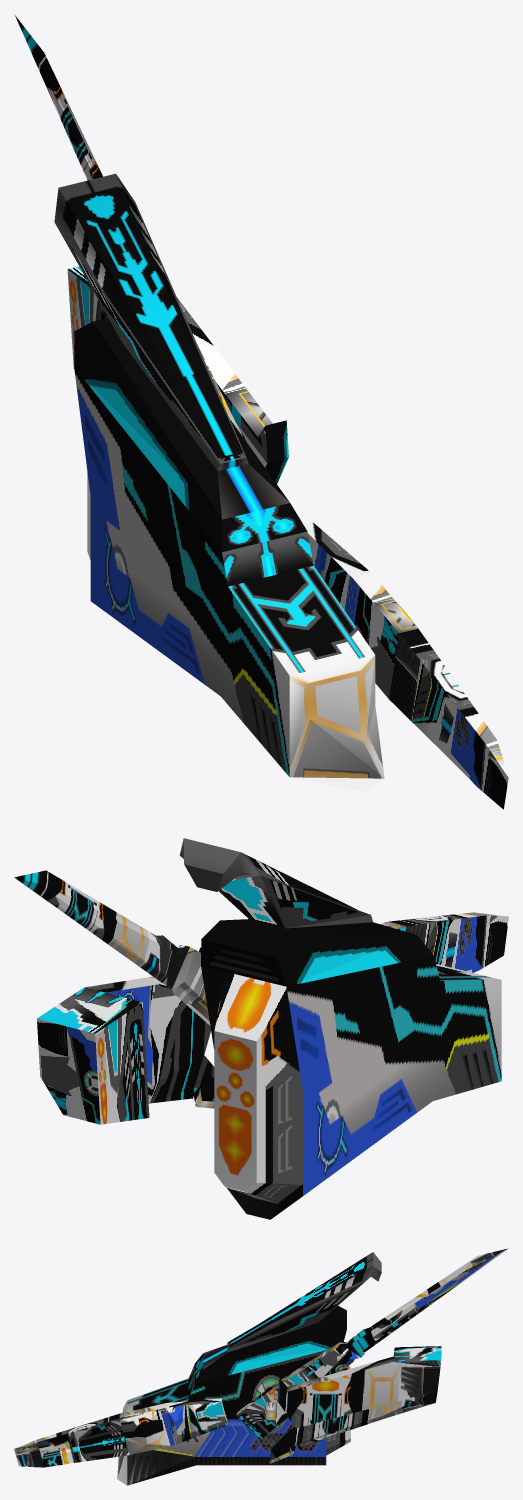
The model's file is datan_common___LBack_e3b151da.obj.
3 views of the same model, one above another, from view 1: azimuth 30°, elevation 25°; view 2: azimuth 150°, elevation 25°; view 3: azimuth 270°, elevation 25° (orthographic). The views are drawn at different scales.
Visible parts, largest first — view 1: datan_common___LBack_e3b151da_mesh00, datan_common___LBack_e3b151da_mesh03, datan_common___LBack_e3b151da_mesh02, datan_common___LBack_e3b151da_mesh01; view 2: datan_common___LBack_e3b151da_mesh00, datan_common___LBack_e3b151da_mesh02, datan_common___LBack_e3b151da_mesh01, datan_common___LBack_e3b151da_mesh03; view 3: datan_common___LBack_e3b151da_mesh00, datan_common___LBack_e3b151da_mesh02, datan_common___LBack_e3b151da_mesh03, datan_common___LBack_e3b151da_mesh01.
Part boxes in pixels (x1,y1,x2,y2): datan_common___LBack_e3b151da_mesh00: [54, 173, 384, 791]; datan_common___LBack_e3b151da_mesh03: [303, 522, 508, 809]; datan_common___LBack_e3b151da_mesh02: [67, 266, 288, 483]; datan_common___LBack_e3b151da_mesh01: [15, 15, 242, 436]; datan_common___LBack_e3b151da_mesh00: [179, 838, 501, 1219]; datan_common___LBack_e3b151da_mesh02: [37, 947, 214, 1124]; datan_common___LBack_e3b151da_mesh01: [14, 870, 210, 1025]; datan_common___LBack_e3b151da_mesh03: [380, 912, 508, 972]; datan_common___LBack_e3b151da_mesh00: [117, 1252, 381, 1485]; datan_common___LBack_e3b151da_mesh02: [269, 1346, 441, 1463]; datan_common___LBack_e3b151da_mesh03: [14, 1398, 228, 1467]; datan_common___LBack_e3b151da_mesh01: [236, 1248, 508, 1439].
Bounding box in the file's own units: 78.85 × 244 × 446.
Materials: 1 (1 with a texture image).
